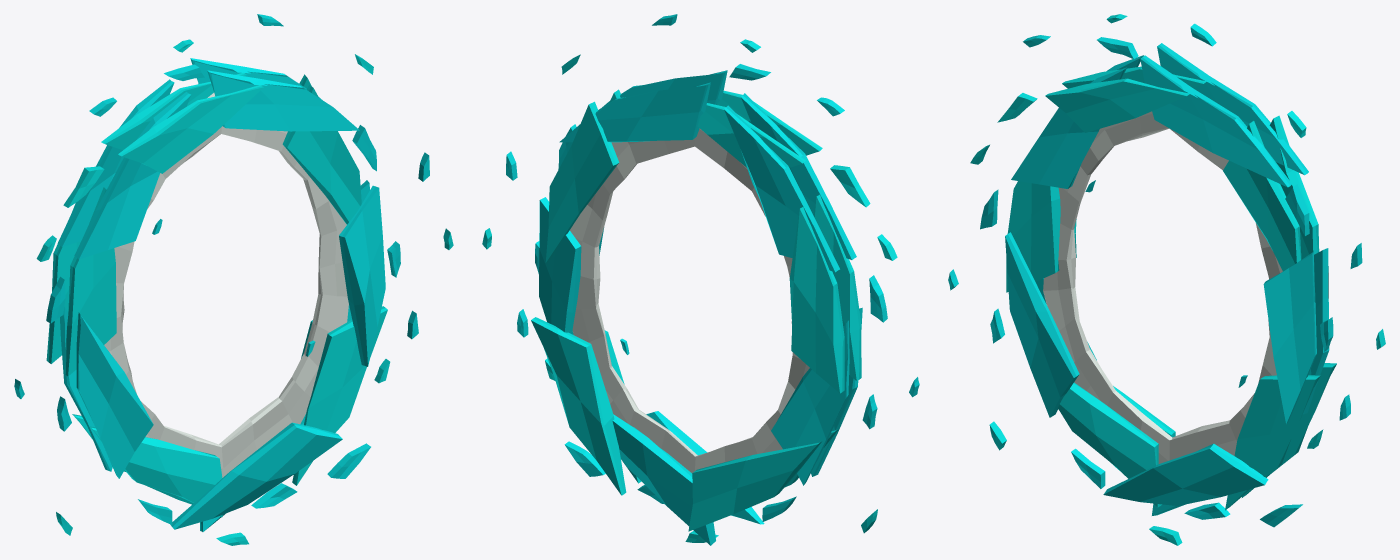
The model's file is portal (2).fbx.
3 renders of one model, left to right at view 1: azimuth 30°, elevation 25°; view 2: azimuth 150°, elevation 25°; view 3: azimuth 330°, elevation 25°, orthographic.
Parts seen in each view (by area): view 1: portel_Plane.005; view 2: portel_Plane.005; view 3: portel_Plane.005.
Boxes of the visible parts, <box> form: portel_Plane.005: <box>14,14,453,545</box>; portel_Plane.005: <box>482,14,919,545</box>; portel_Plane.005: <box>948,14,1385,545</box>.
Size of the model in its own units: 1372 by 1581 by 206.
